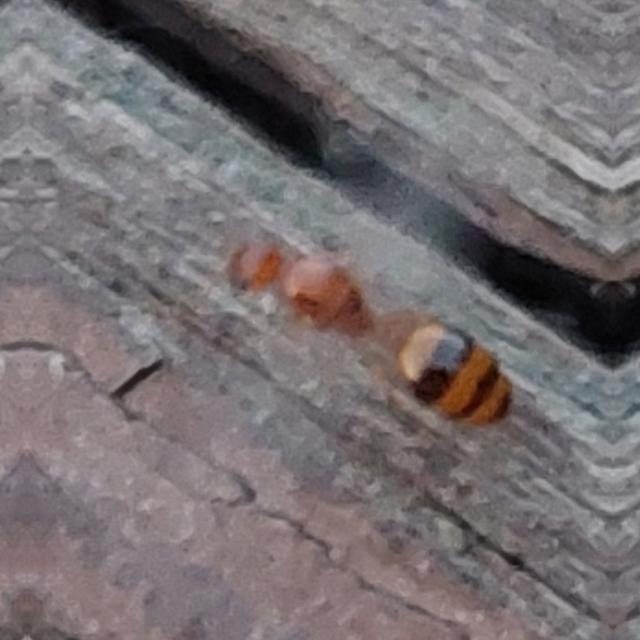Temnothorax: (188, 200, 544, 438)
